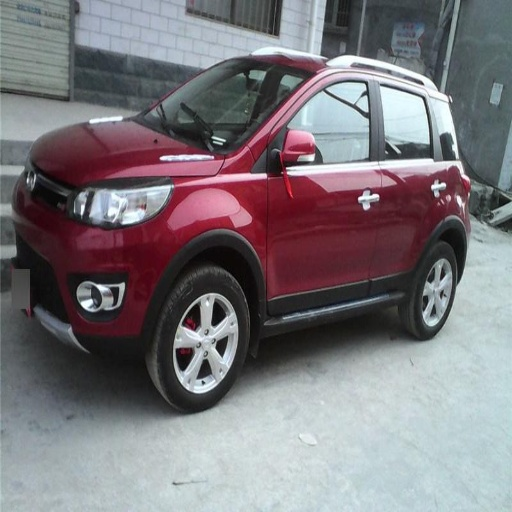front_bumper: (11, 170, 169, 350)
front_glass: (133, 60, 300, 153)
front_left_door: (273, 76, 381, 313)
